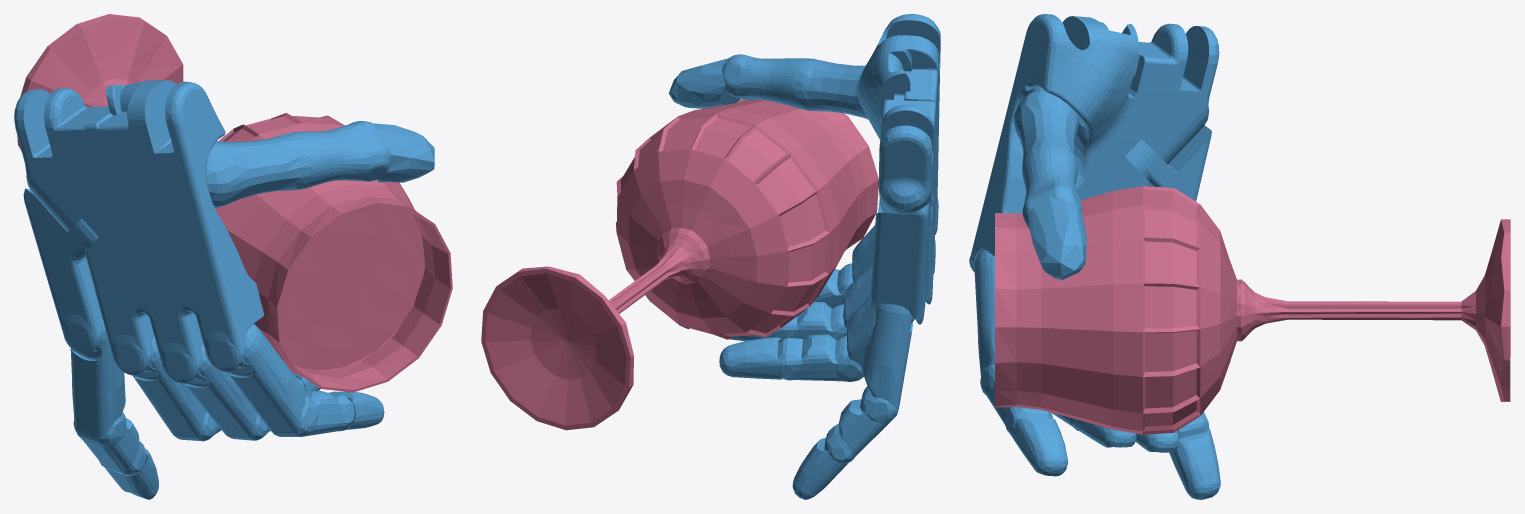
3 views of the same model, side by side, from view 1: azimuth 30°, elevation 25°; view 2: azimuth 150°, elevation 25°; view 3: azimuth 270°, elevation 25° (orthographic). The views are drawn at different scales.
Parts seen in each view (by area): view 1: 2; view 2: 2; view 3: 2.
Part boxes in pixels (x1,y1,x2,y2): 2: (14,14,452,499); 2: (481,14,940,499); 2: (969,14,1510,499).
Size of the model in its own units: 0.1569 by 0.2018 by 0.2132.
